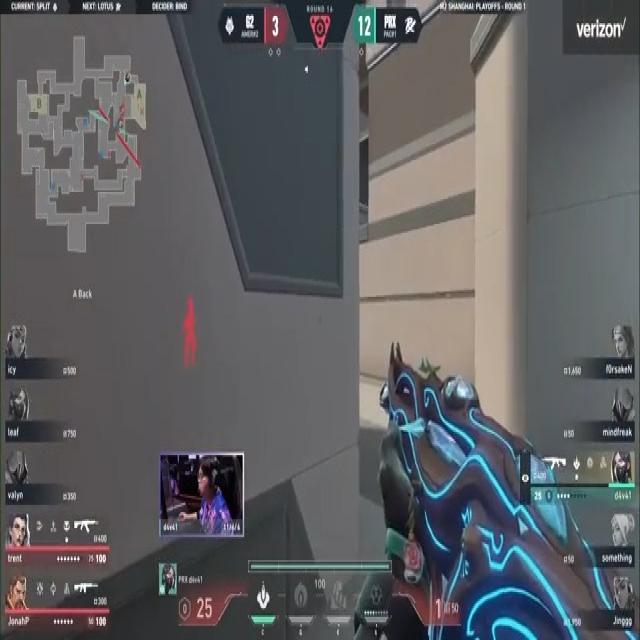enemy behind wall: (179, 300, 201, 364)
